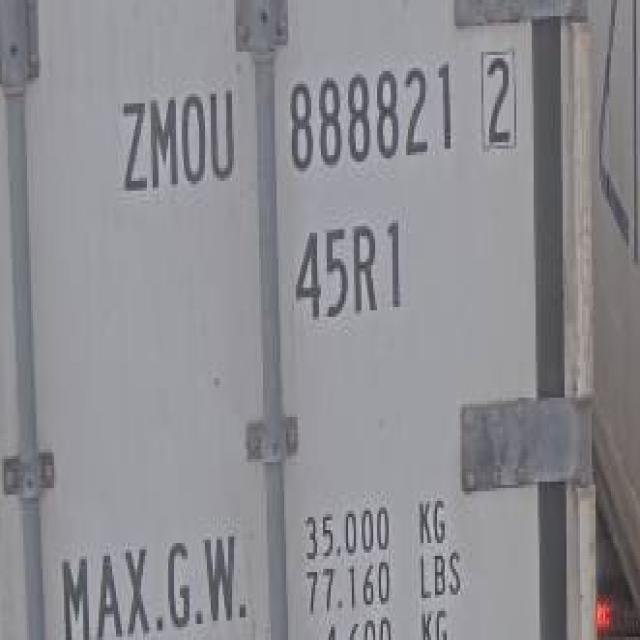dv: (475, 41, 518, 163)
owner: (113, 83, 240, 206)
serial: (284, 46, 456, 181)
size: (285, 215, 420, 333)
